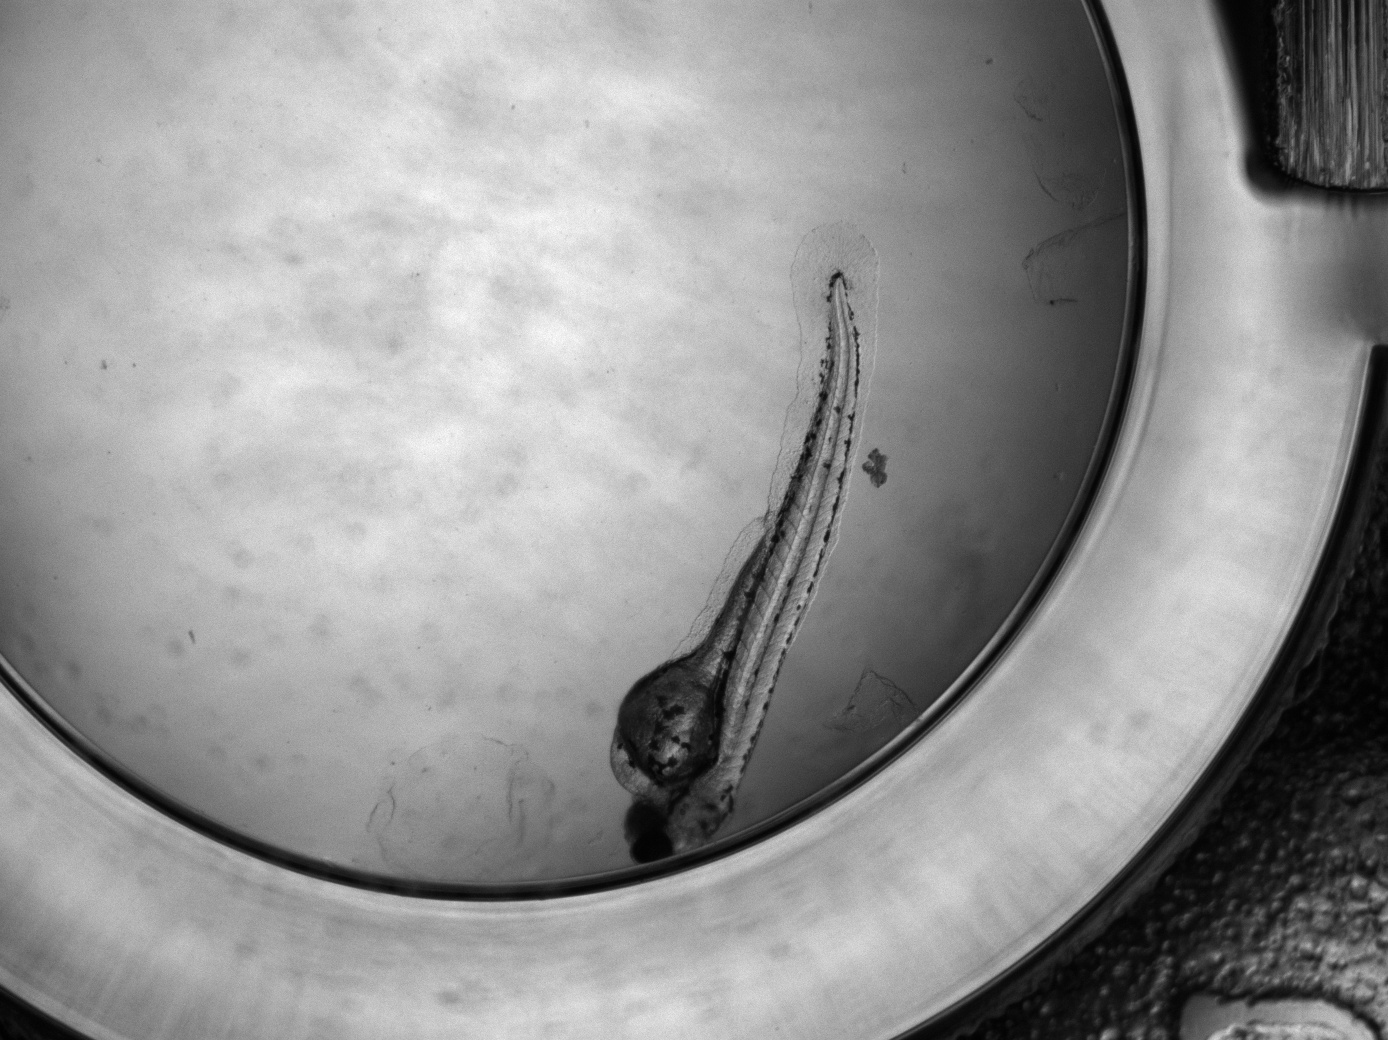debris: (364, 735, 555, 883)
embryo: (609, 270, 863, 865)
eye: (633, 830, 673, 864)
yolksac: (609, 657, 717, 797)
